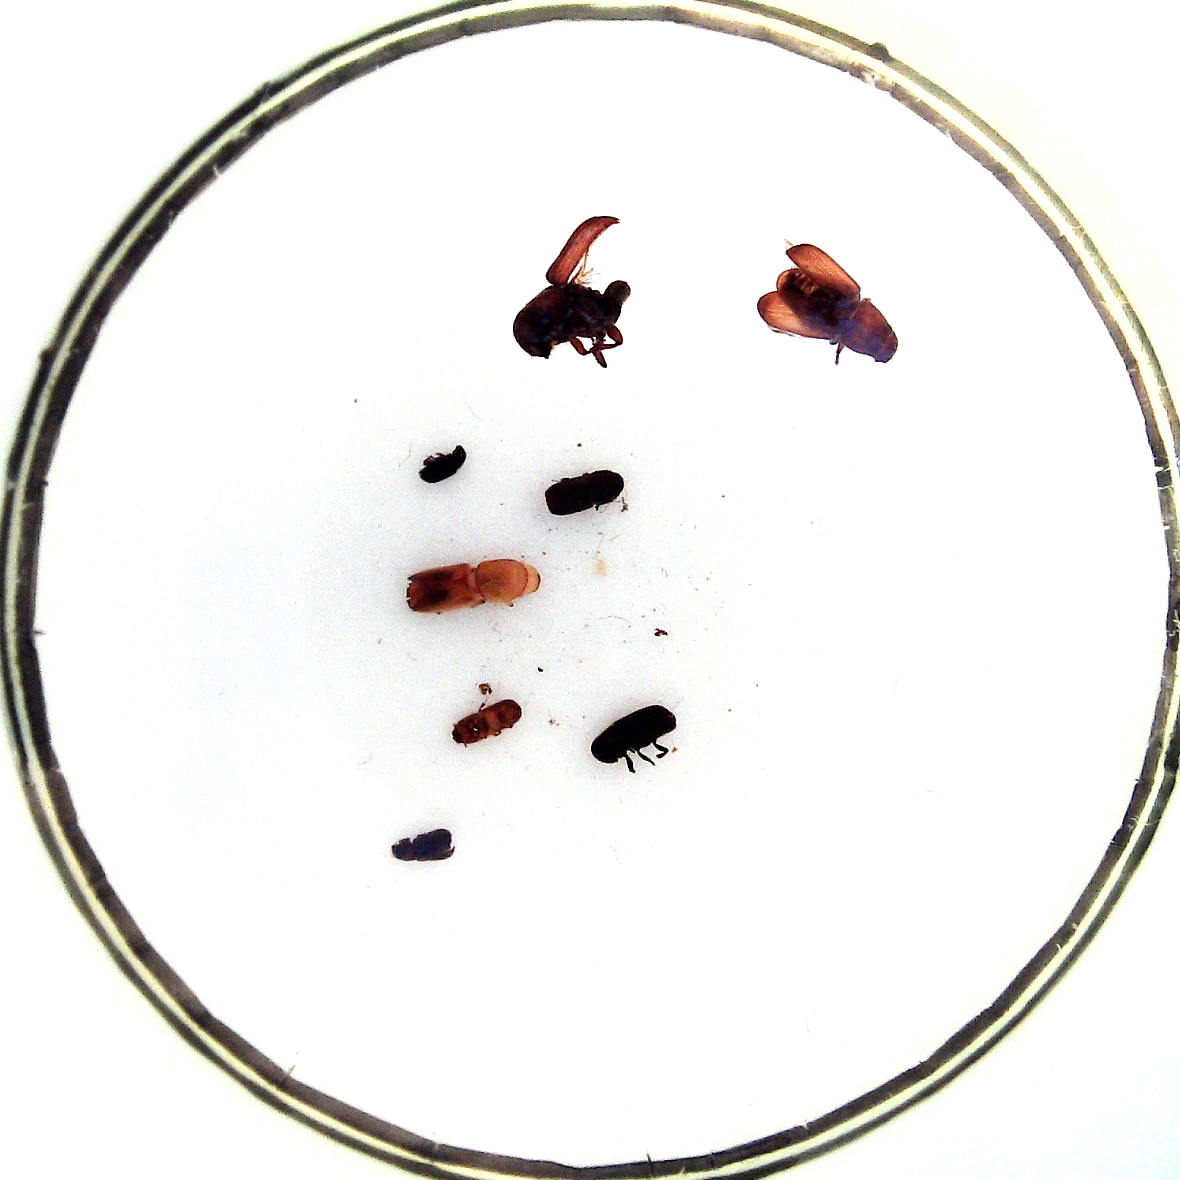Boerner: (405, 558, 541, 613)
Leconte: (776, 266, 898, 364), (513, 278, 631, 361)
acuminatus: (418, 444, 465, 483)
armandi: (591, 703, 676, 761)
coleoptera: (451, 698, 519, 743), (391, 828, 454, 861)
linnaeus: (546, 468, 623, 515)
